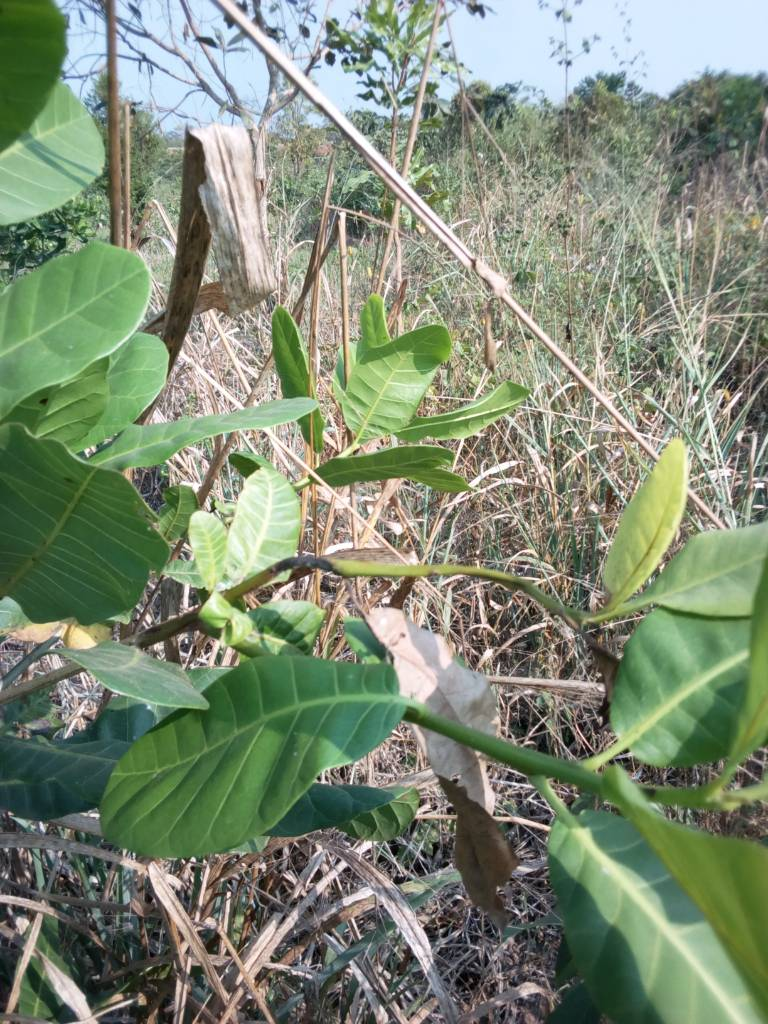Bactériose: (258, 552, 346, 578)
